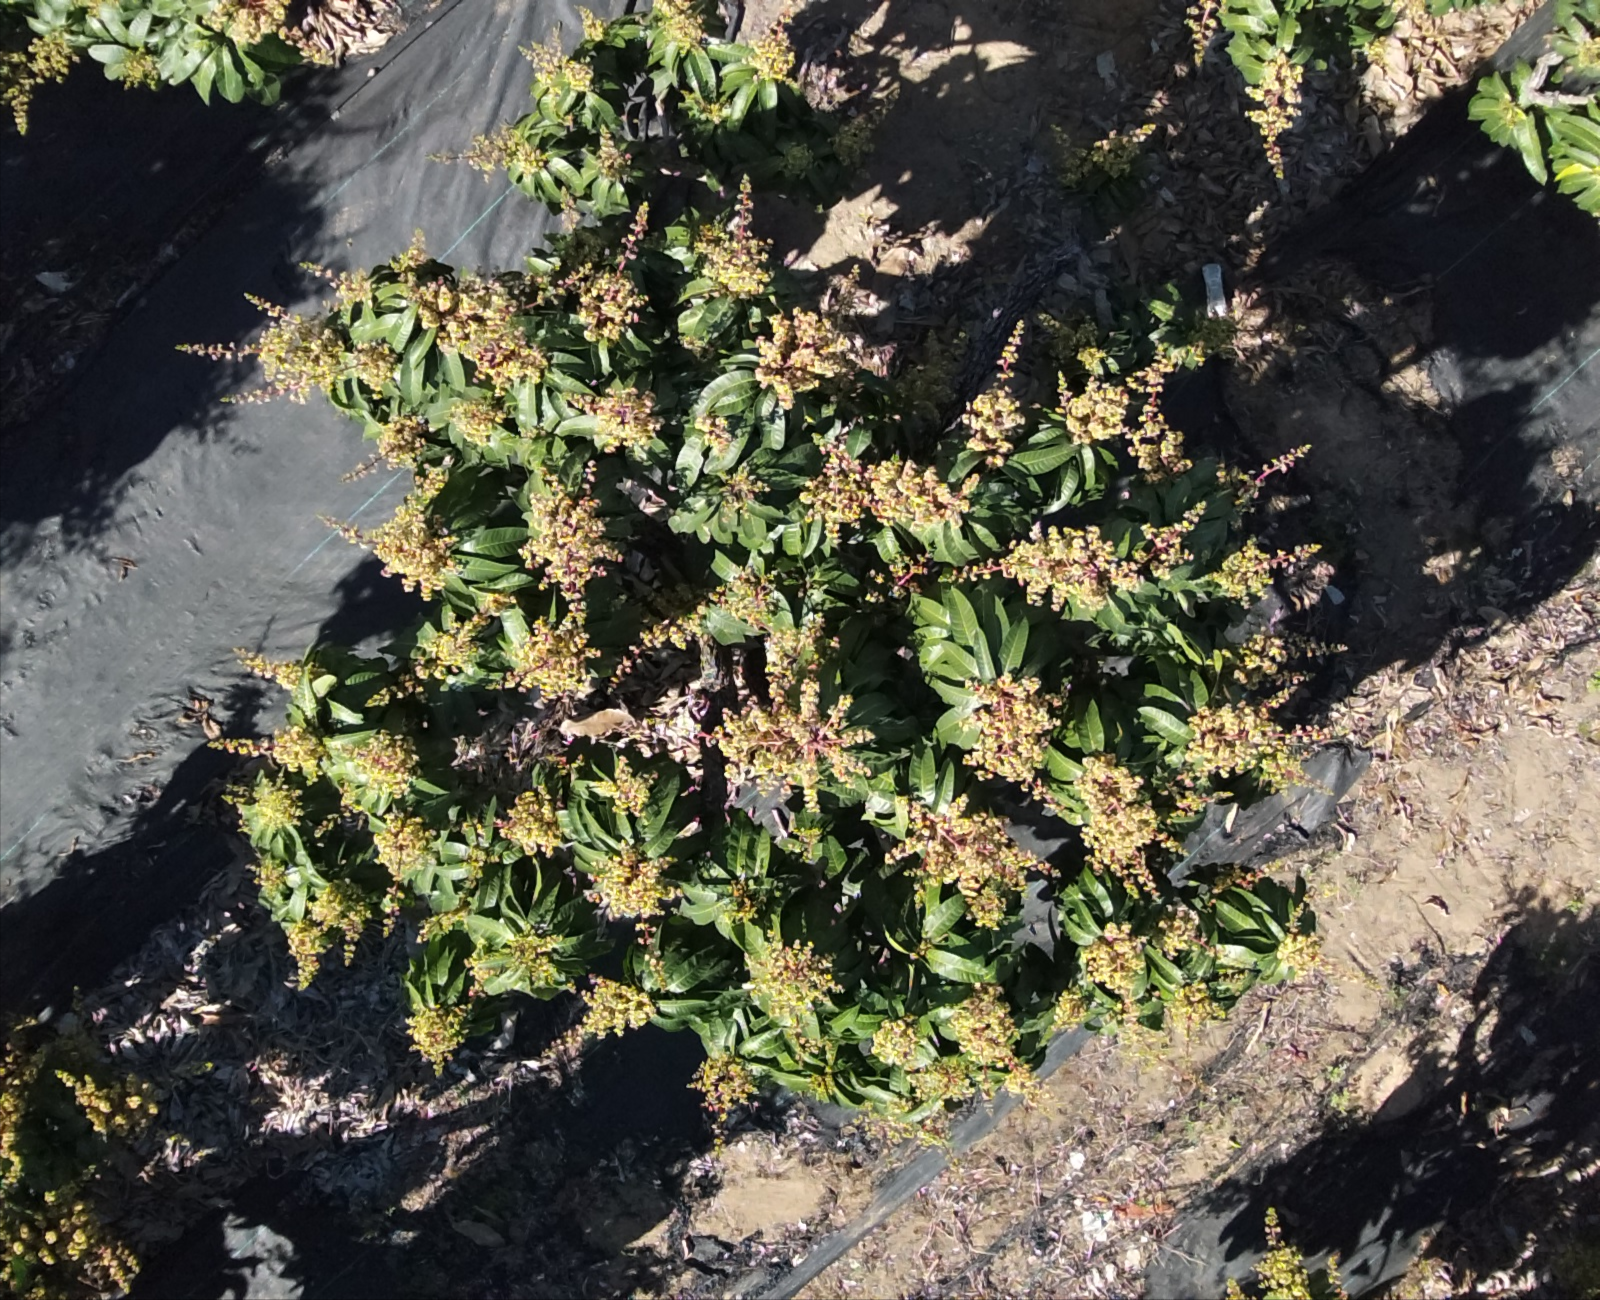flowers: (716, 616, 873, 809), (958, 501, 1203, 610), (870, 983, 1036, 1142), (393, 249, 547, 391), (1183, 633, 1323, 788), (176, 306, 397, 403), (888, 795, 1047, 927), (1053, 344, 1205, 479), (799, 444, 978, 539), (0, 1182, 138, 1299), (1075, 753, 1179, 891), (521, 463, 621, 600), (563, 202, 647, 342), (639, 566, 777, 649), (369, 475, 456, 600), (965, 675, 1061, 785), (541, 976, 655, 1067), (746, 937, 837, 1048), (283, 879, 371, 990), (755, 308, 848, 409), (695, 176, 771, 296), (414, 593, 513, 681), (504, 608, 598, 698), (1225, 1207, 1311, 1299), (592, 846, 677, 938), (1211, 539, 1321, 608), (0, 36, 78, 133), (1246, 50, 1303, 179), (374, 814, 434, 934), (1091, 90, 1167, 176), (56, 1071, 157, 1136), (470, 925, 567, 992), (573, 383, 661, 455), (219, 724, 326, 780), (341, 415, 426, 482), (0, 1049, 41, 1181), (963, 385, 1024, 466), (689, 1055, 758, 1121), (1081, 922, 1144, 994), (352, 730, 417, 797), (226, 773, 302, 830), (407, 1004, 470, 1073), (464, 125, 548, 175), (500, 788, 563, 854), (206, 0, 291, 44), (520, 42, 593, 92), (1276, 901, 1321, 978), (1156, 903, 1215, 956), (90, 45, 162, 88), (651, 0, 706, 53), (448, 397, 504, 444), (748, 23, 795, 80), (417, 895, 470, 942), (1183, 0, 1221, 65), (872, 1015, 919, 1065), (612, 757, 653, 814), (722, 466, 767, 512), (281, 27, 334, 65), (678, 92, 731, 126), (594, 131, 632, 180), (694, 414, 732, 455), (1053, 984, 1088, 1029), (255, 856, 287, 903), (785, 826, 823, 862), (334, 271, 371, 304), (728, 877, 756, 921), (781, 143, 813, 176), (576, 7, 605, 40), (1573, 36, 1599, 72), (646, 952, 666, 990), (74, 0, 115, 15), (1225, 1280, 1254, 1299), (519, 427, 547, 440)
